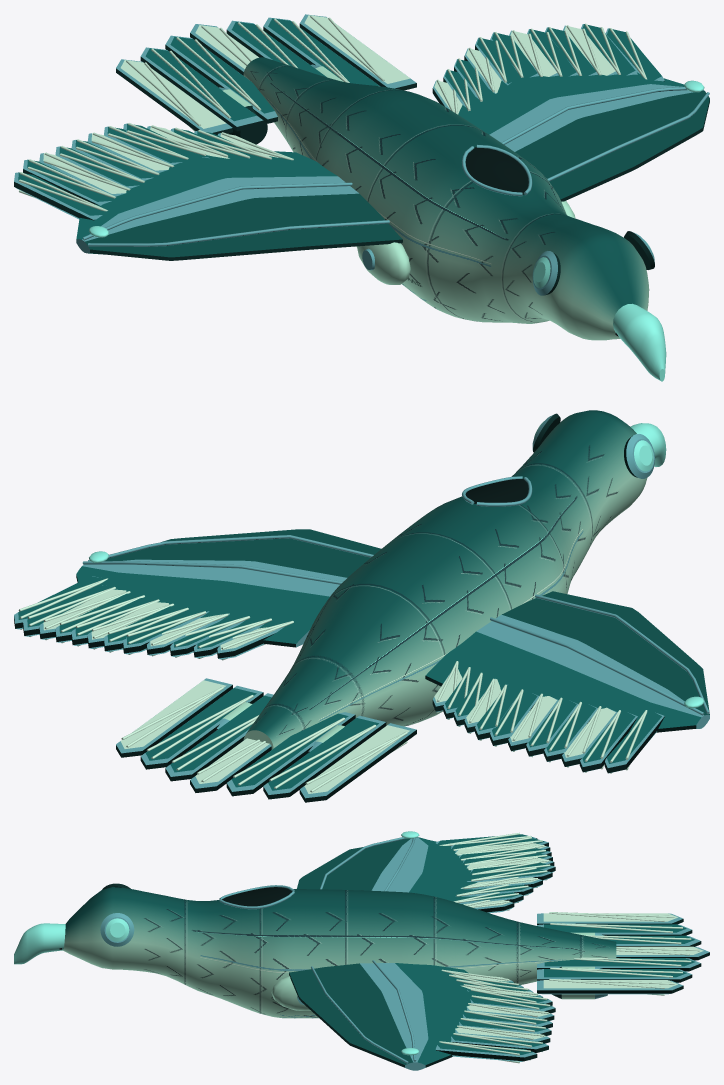
The picture shows the model from 3 angles, top to bottom: view 1: azimuth 30°, elevation 25°; view 2: azimuth 150°, elevation 25°; view 3: azimuth 270°, elevation 25°; orthographic projection. The views are drawn at different scales.
Visible parts, largest first — view 1: oxpecker_hull; view 2: oxpecker_hull; view 3: oxpecker_hull.
Boxes of the visible parts, left/top/right/bottom form: oxpecker_hull: left=14, top=14, right=709, bottom=381; oxpecker_hull: left=14, top=410, right=709, bottom=802; oxpecker_hull: left=14, top=831, right=709, bottom=1070.
Bounding box in the file's own units: 12.31 × 3.09 × 16.
1 material, 1 textured.
